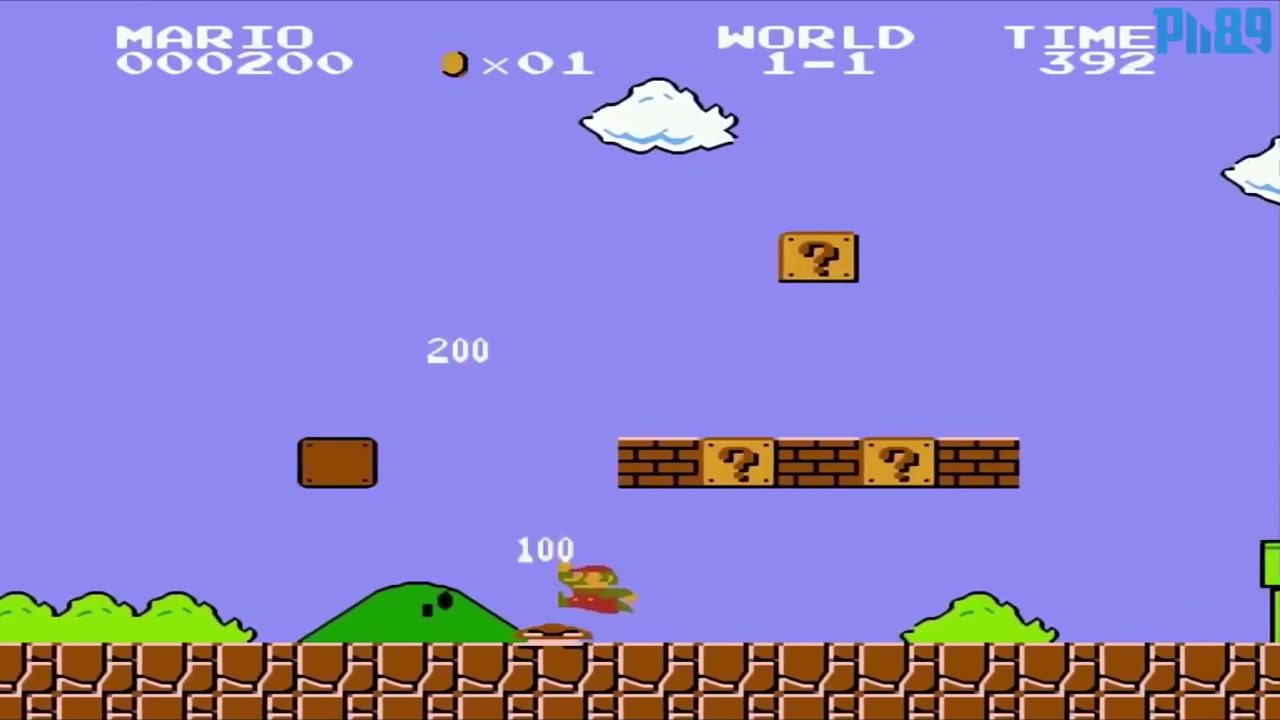mario: (550, 555, 642, 618)
